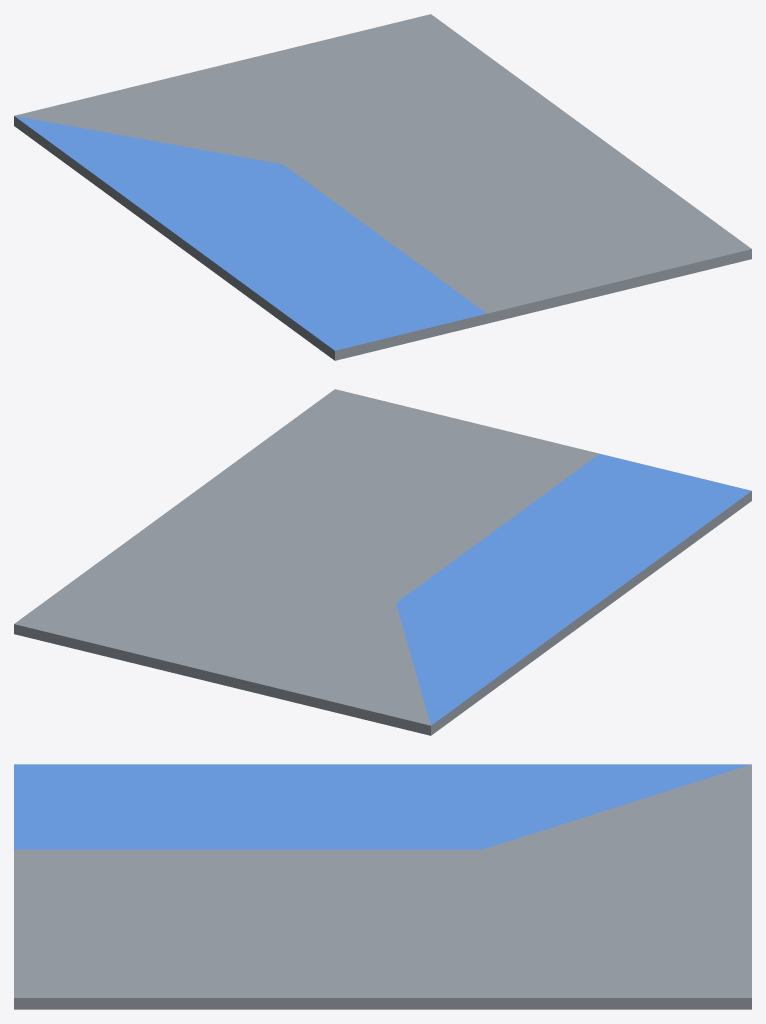
The model's file is veyran_vehicle_factory_foundation.glb.
3 views of the same model, one above another, from view 1: azimuth 30°, elevation 25°; view 2: azimuth 150°, elevation 25°; view 3: azimuth 270°, elevation 25° (orthographic). The views are drawn at different scales.
Visible parts, largest first — view 1: hull; view 2: hull; view 3: hull.
Boxes of the visible parts, bbox=[...] form: hull: bbox=[14, 14, 751, 360]; hull: bbox=[14, 389, 751, 735]; hull: bbox=[14, 764, 751, 1009].
Size of the model in its own units: 10.8 by 0.25 by 14.4.
